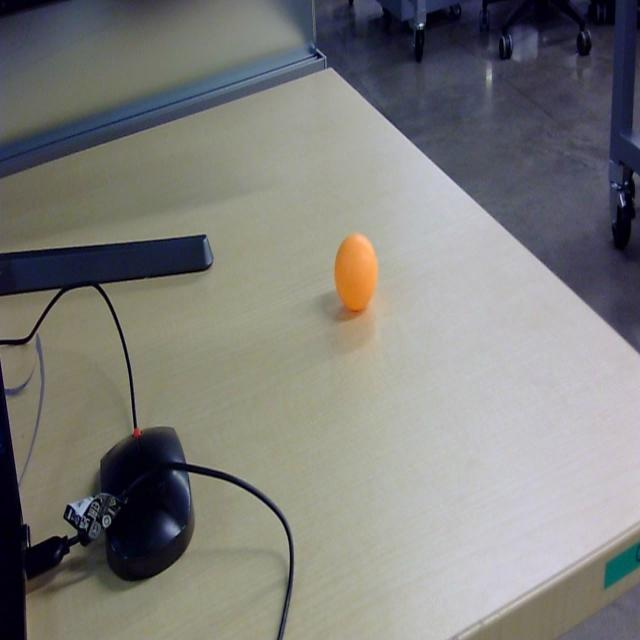ball: (333, 231, 377, 313)
